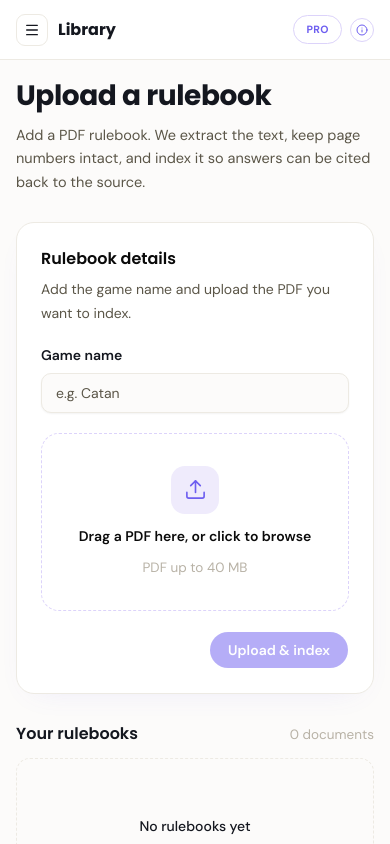
Test case: LibraryPage › renders the reference header and mobile navigation
Expected: the text "No rulebooks yet" is shown, [139,816,250,836]
Expected: the header shows "Library", [58,18,116,40]
Click the button with test id "library-mobile-menu-btn" at (32, 30), box [16,14,48,46]
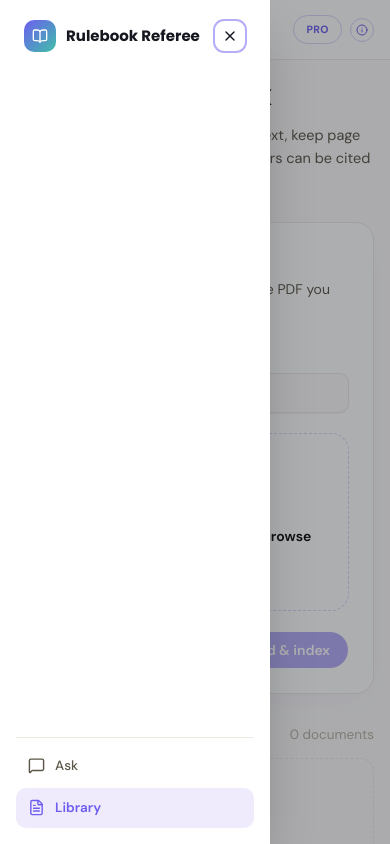
Now the dialog named "Main navigation" is shown
Now the link "Ask" is shown, box [28,756,78,774]
